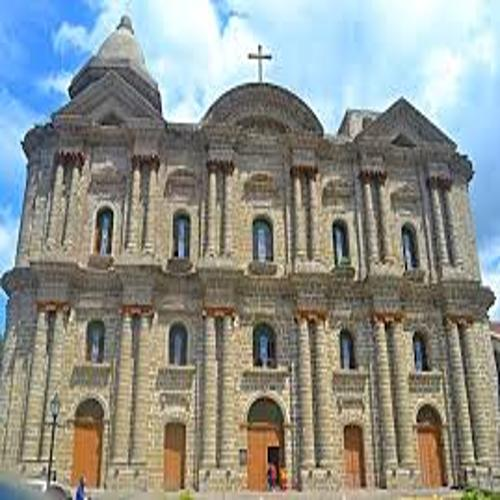Taal Basilica Church: (8, 12, 500, 498)
